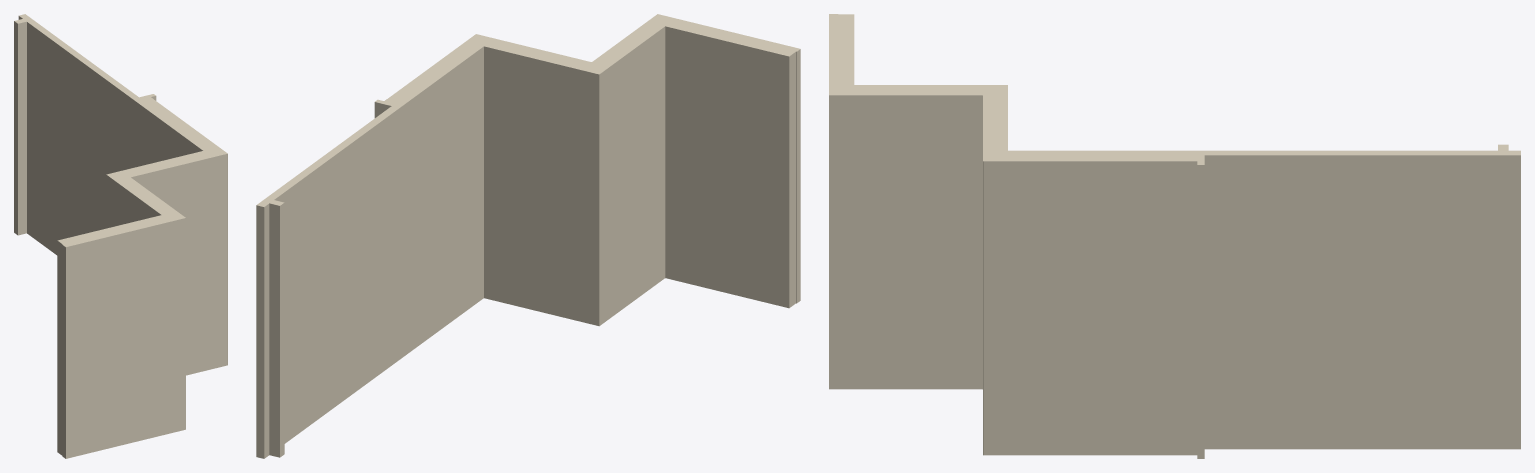
3 renders of one model, left to right at view 1: azimuth 30°, elevation 25°; view 2: azimuth 150°, elevation 25°; view 3: azimuth 270°, elevation 25°, orthographic. The views are drawn at different scales.
Parts seen in each view (by area): view 1: A-GF-WALL-005; view 2: A-GF-WALL-005; view 3: A-GF-WALL-005.
Part boxes in pixels (box(x1,y1,x2,y2)): A-GF-WALL-005: box(14, 14, 227, 458); A-GF-WALL-005: box(256, 14, 800, 458); A-GF-WALL-005: box(829, 14, 1520, 458).
Bounding box in the file's own units: 3 × 2.72 × 5.8.
